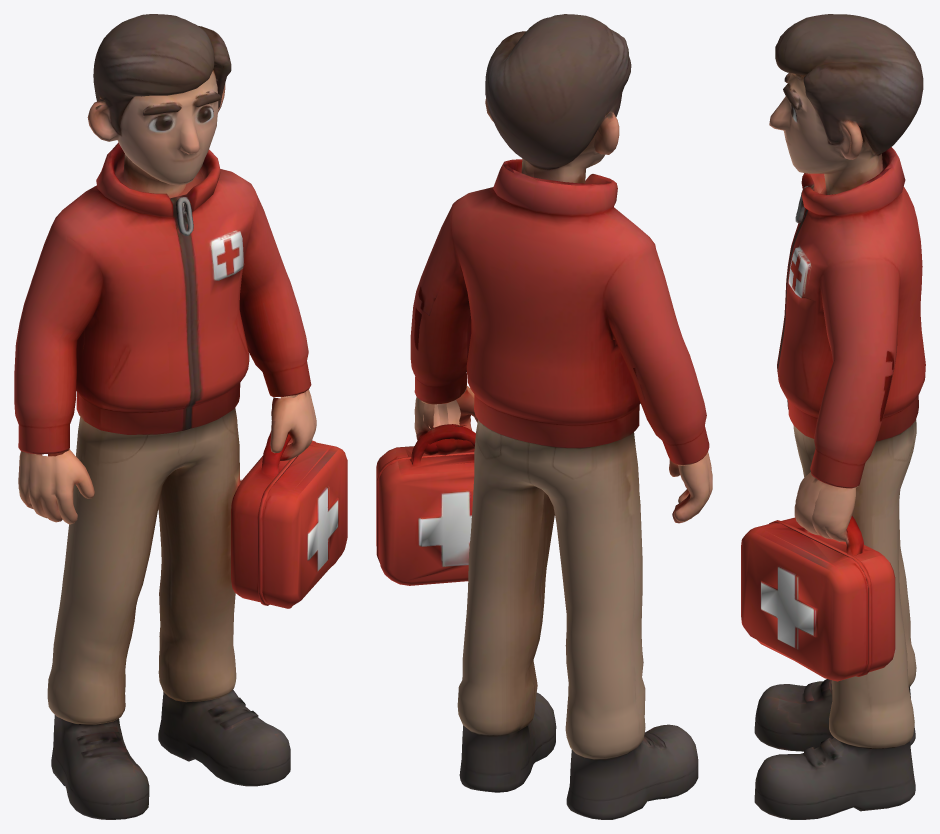
File: Medical__firstaidkit_realistic_style_4b94e172_v4.cluster.glb
The picture shows the model from 3 angles, left to right: view 1: azimuth 30°, elevation 25°; view 2: azimuth 150°, elevation 25°; view 3: azimuth 270°, elevation 25°; orthographic projection.
Visible parts, largest first — view 1: mesh_input; view 2: mesh_input; view 3: mesh_input.
Part boxes in pixels (left/top/right/bottom): mesh_input: left=14, top=14, right=347, bottom=819; mesh_input: left=376, top=14, right=712, bottom=819; mesh_input: left=741, top=14, right=925, bottom=819.
Bounding box in the file's own units: 0.8653 × 1.9 × 0.4239.
Materials: 1 (1 with a texture image).
